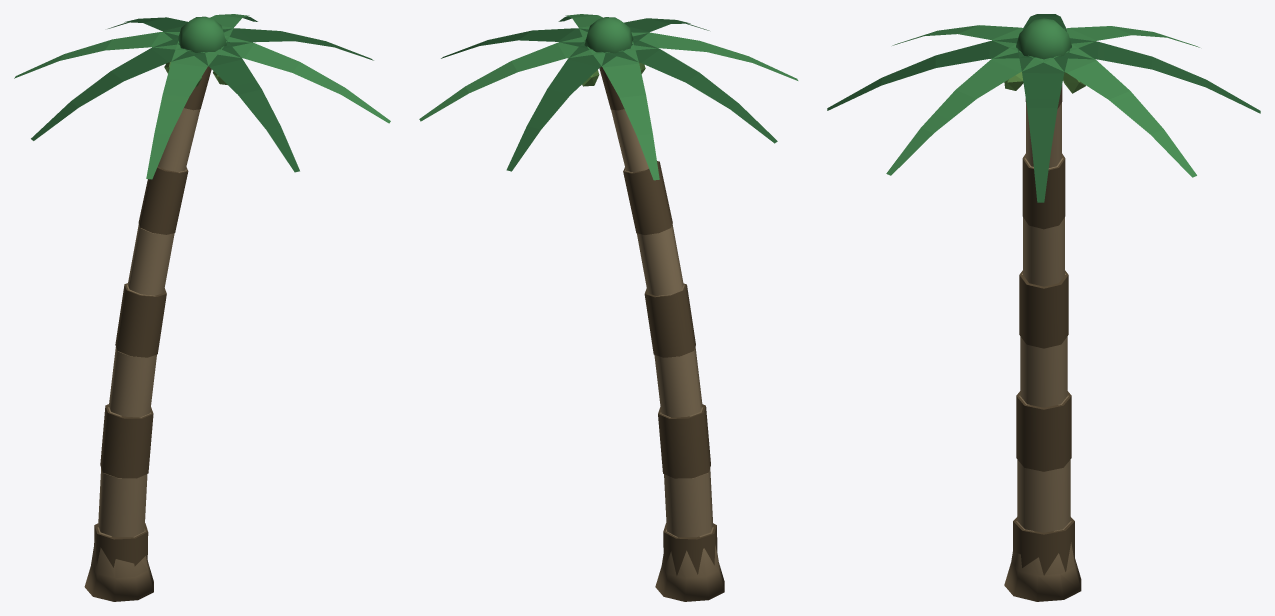
The model's file is coconut_palm.glb.
3 renders of one model, left to right at view 1: azimuth 30°, elevation 25°; view 2: azimuth 150°, elevation 25°; view 3: azimuth 270°, elevation 25°, orthographic. The views are drawn at different scales.
Visible parts, largest first — view 1: coconut_palm; view 2: coconut_palm; view 3: coconut_palm.
Boxes of the visible parts, x1,y1,x2,y2 form: coconut_palm: (14,14,390,601); coconut_palm: (419,14,798,601); coconut_palm: (827,14,1260,601).
Size of the model in its own units: 3.7 by 5.74 by 3.7.
